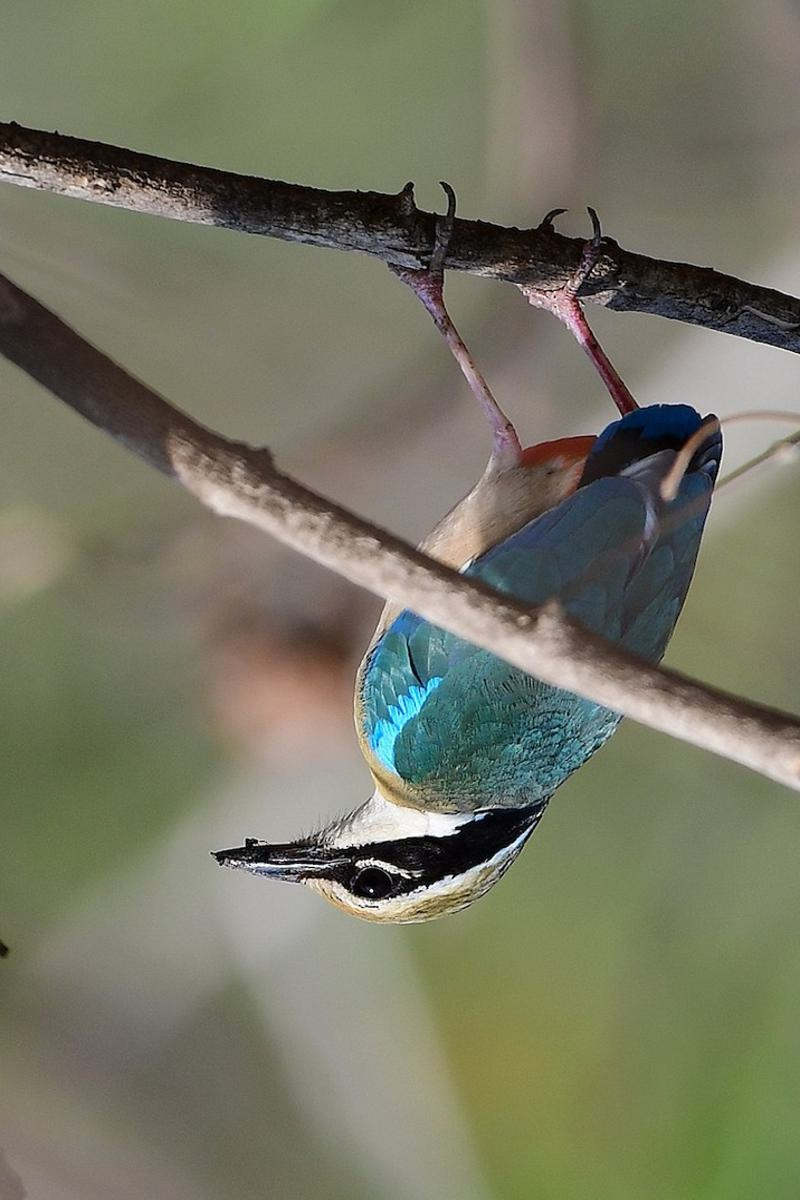pitta: (162, 250, 752, 975)
